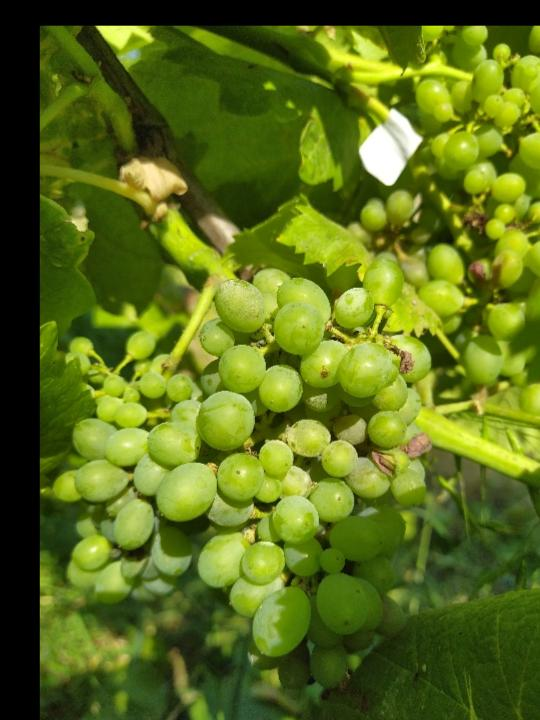grape: (47, 256, 436, 695)
